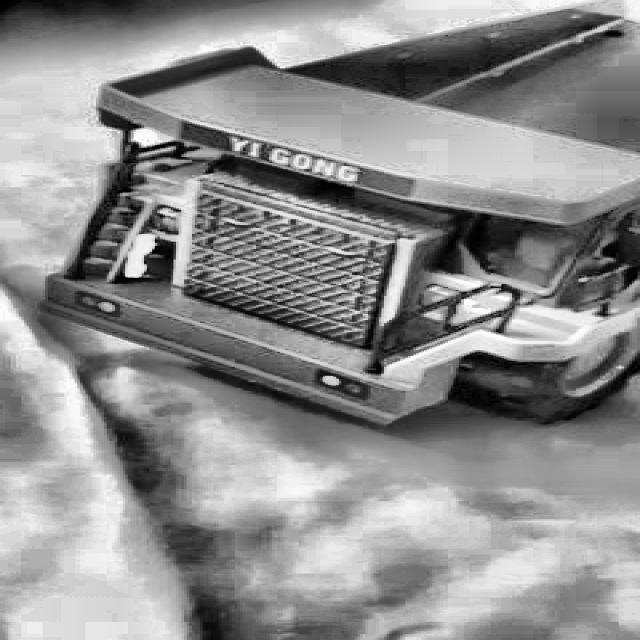dump_truck: (29, 0, 640, 436)
